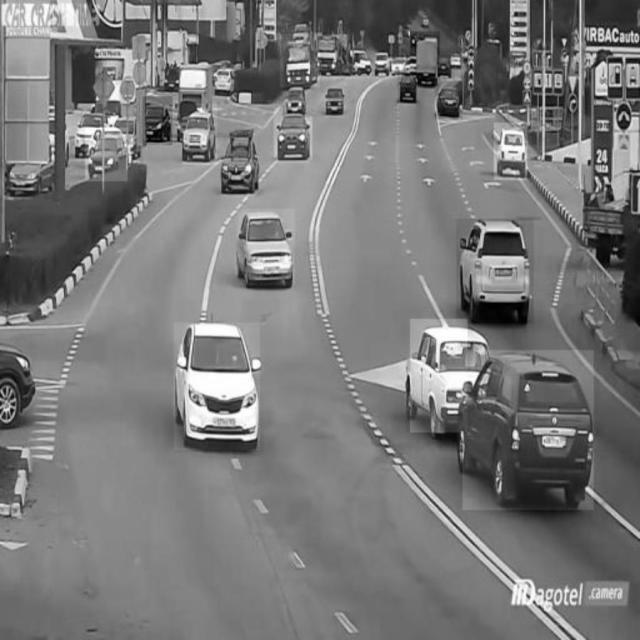vehicle: (463, 350, 594, 510), (174, 322, 260, 450), (457, 219, 534, 323), (411, 319, 468, 432), (238, 209, 295, 285), (0, 335, 40, 429), (84, 128, 128, 182), (280, 34, 321, 88), (183, 104, 218, 165), (223, 135, 260, 191), (274, 109, 312, 161), (494, 123, 528, 180), (411, 32, 441, 87), (142, 97, 172, 145), (435, 83, 462, 120), (282, 85, 312, 117), (323, 83, 349, 119), (397, 70, 417, 104), (370, 49, 390, 77), (438, 55, 455, 79)
